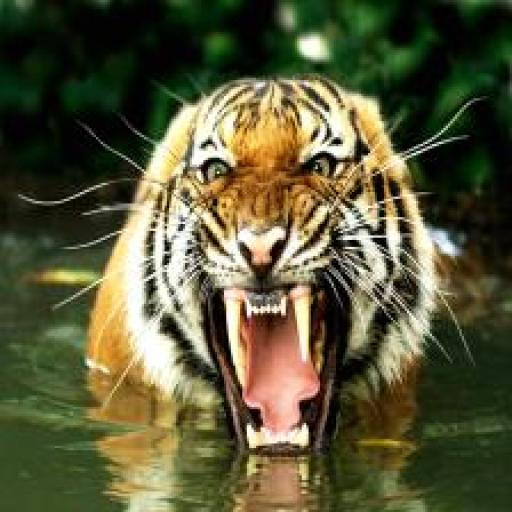Tiger: (73, 50, 481, 480)
